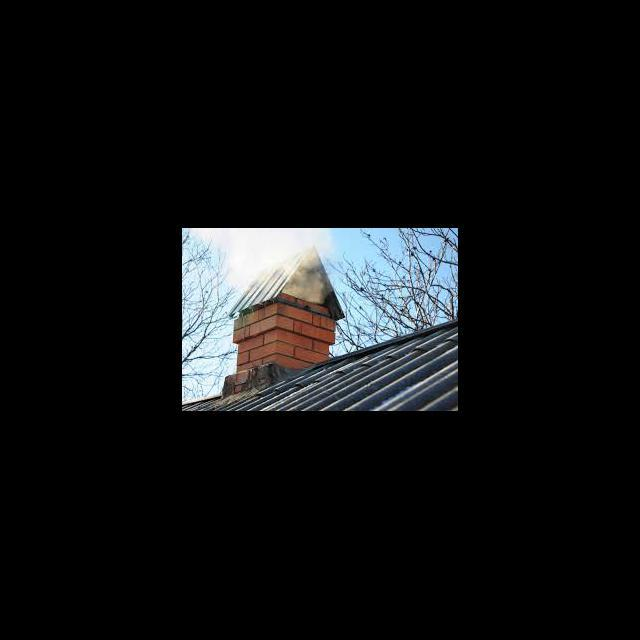Smoke: (190, 229, 333, 286), (282, 247, 331, 304)
